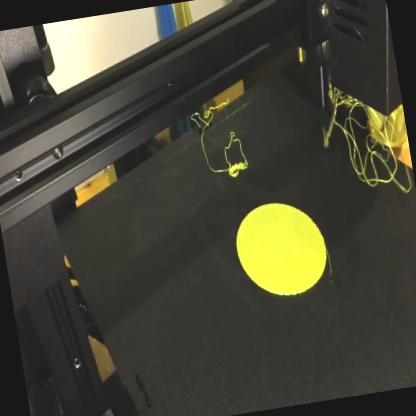fail: (311, 71, 416, 206), (186, 95, 252, 187)
